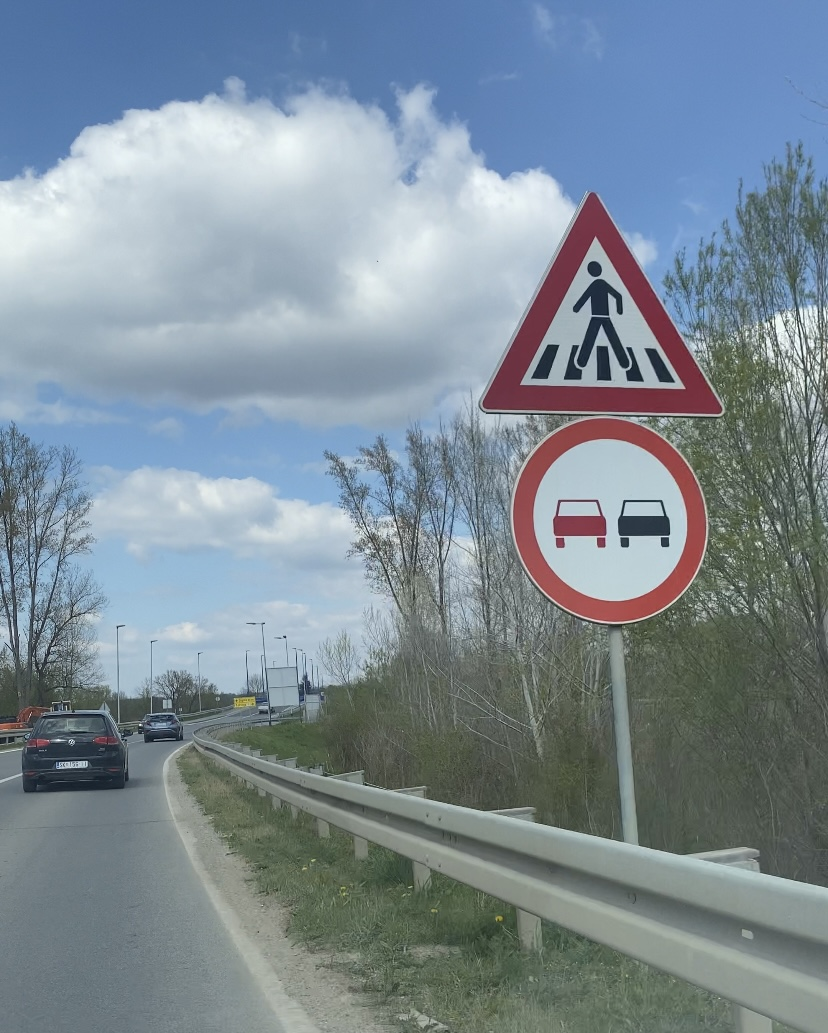Približavanje pješačkom prijelazu: (477, 190, 725, 418)
Zabrana pretjecanja: (510, 415, 708, 625)
